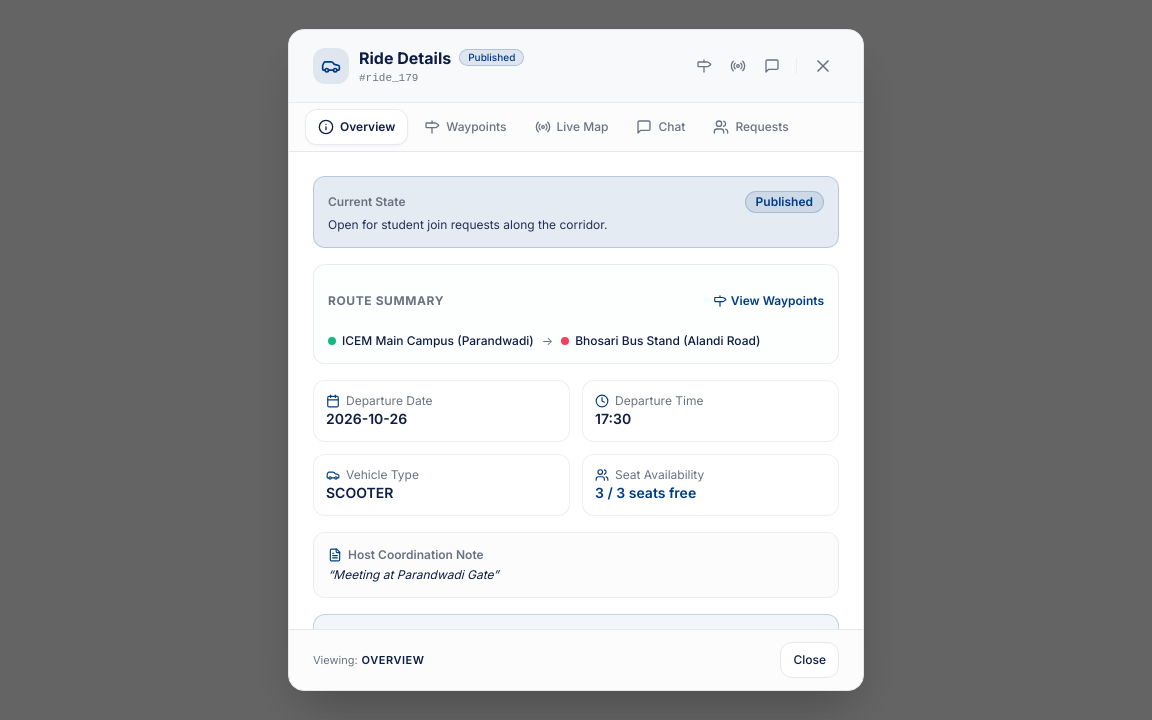
Test: RideDetailModal Navigation & Ergonomics › switches directly to Coordination Chat tab via header quick-jump icon
The width and height of the screenshot is (1152, 720).
What coordinates should you click on to do the following:
click the button named "Open Chat"
I would click on:
 (772, 66)
Its box is [758,44,786,88].
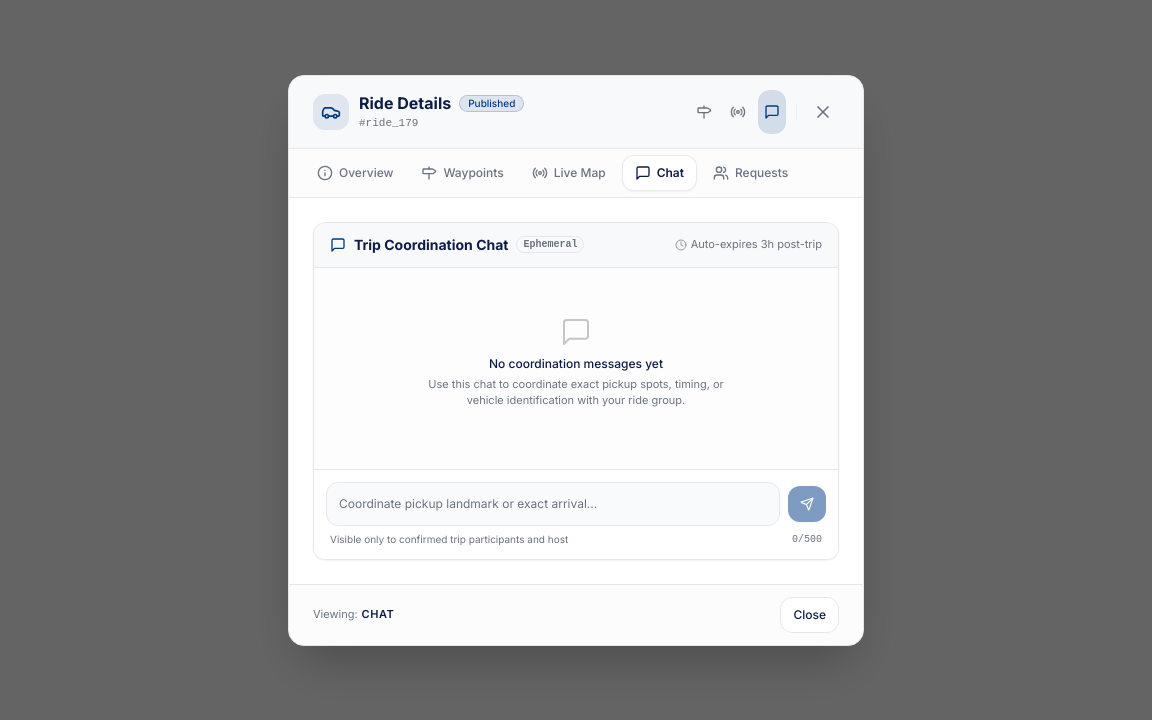
Check: the heading "Trip Coordination Chat" is shown, box [354,234,508,254]
